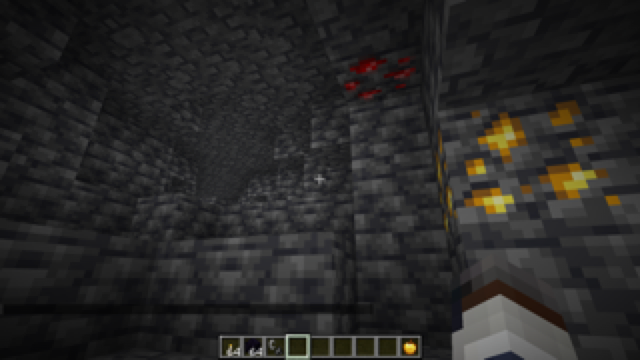gold: (435, 90, 625, 242)
redstone: (330, 46, 428, 106)
